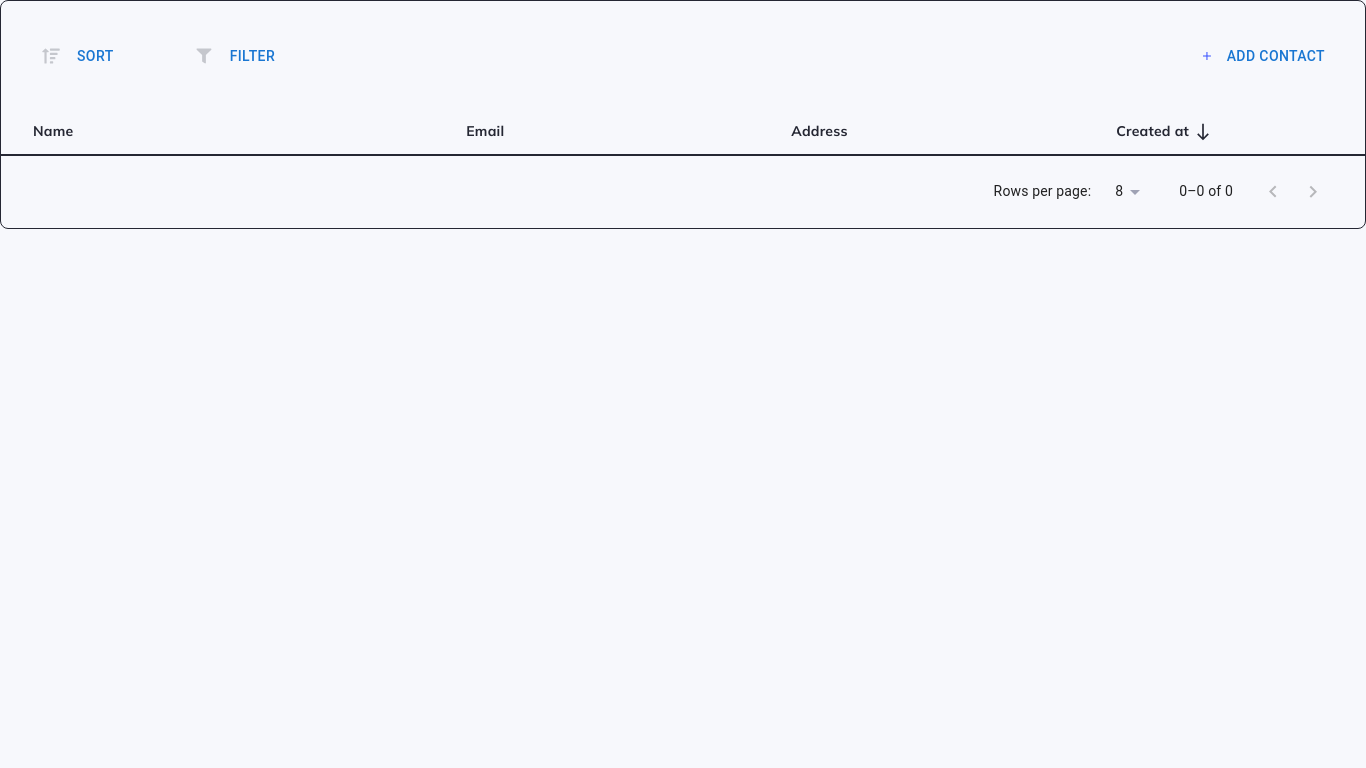
Scenario: Contacts component › opens the modal when "Add contact" button is clicked
Click the button with test id "addButton" at (1264, 56), box [1195,38,1333,74]
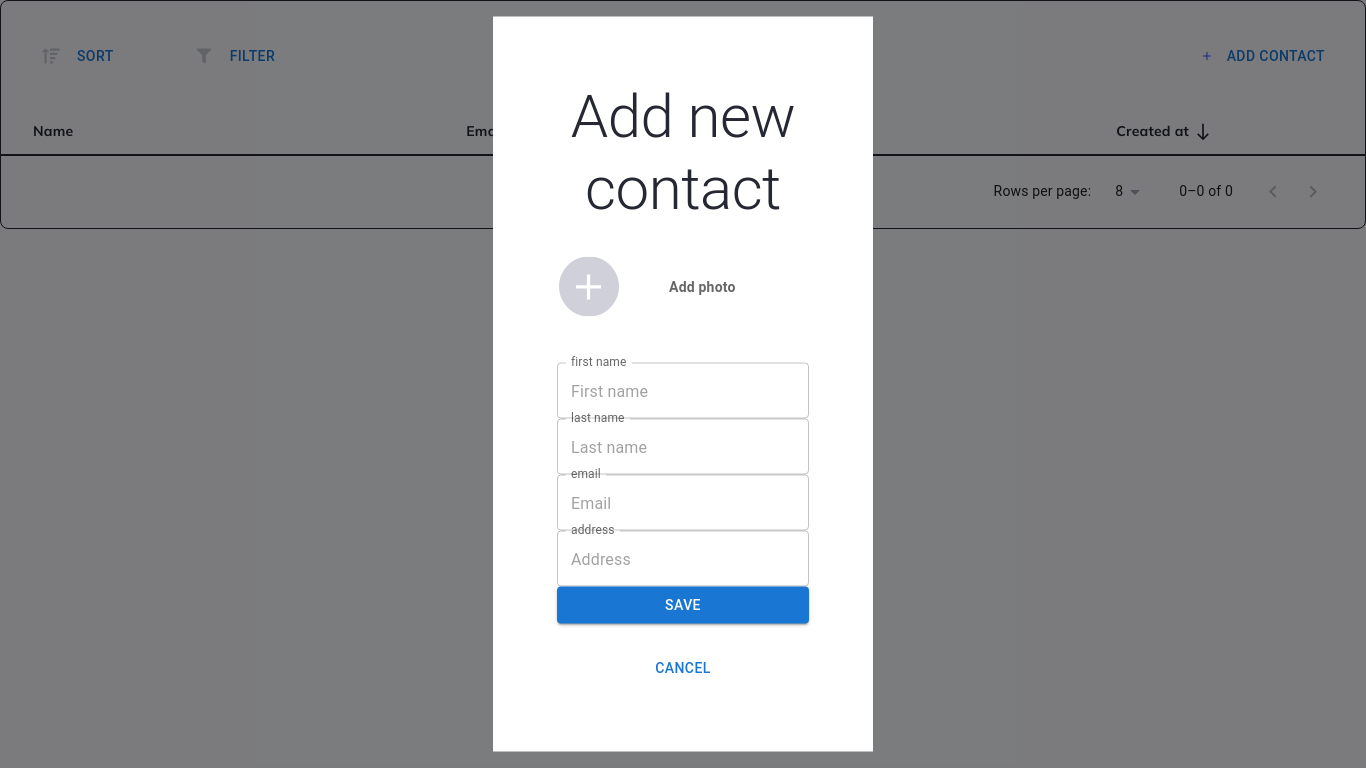
expect the heading "Add new contact" is shown: met, box [557,80,809,224]
